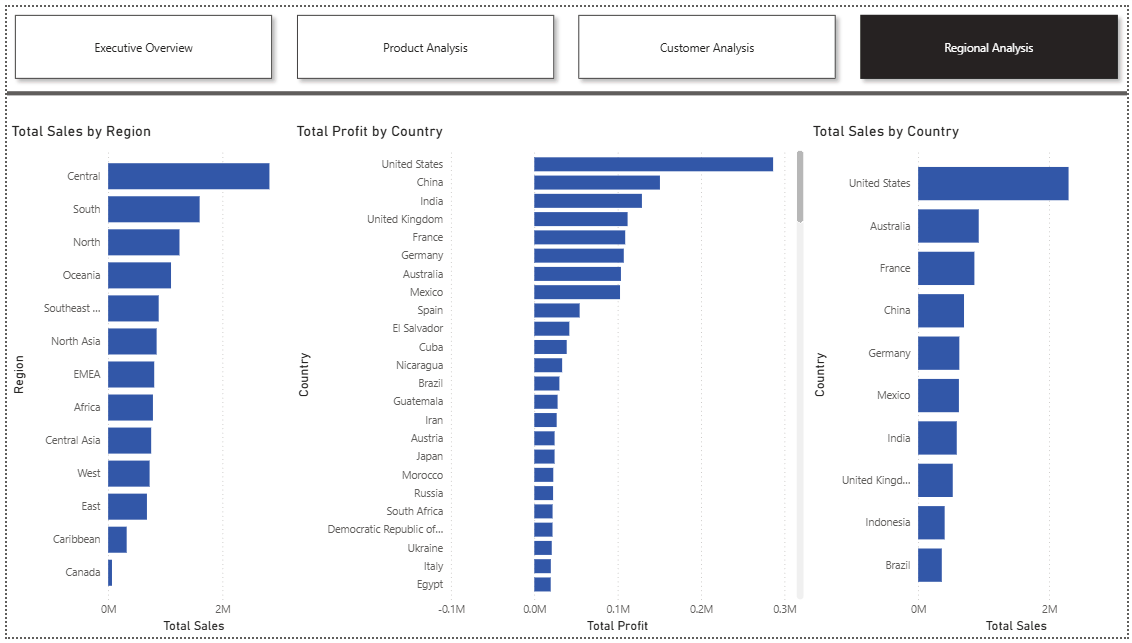

The page's visual inventory and layout, read from the dashboard file:
{"tool":"powerbi","page":{"name":"Regional Analysis","canvas":[1280,720],"ordinal":3},"visuals":[{"type":"clusteredBarChart","fields":{"Category":["superstore.Country"],"Y":["superstore.Total Sales"]},"box":[915.7,131.4,364.3,588.6],"z":0},{"type":"clusteredBarChart","fields":{"Category":["superstore.Region"],"Y":["superstore.Total Sales"]},"box":[0,131.4,325.7,588.6],"z":1000},{"type":"barChart","fields":{"Category":["superstore.Country"],"Y":["superstore.Total Profit"]},"box":[325.7,131.4,590,588.6],"z":2000},{"type":"pageNavigator","box":[0,0,1280,91.7],"z":3001},{"type":"textbox","box":[0,91.7,1280,40],"z":3002}]}

Visuals, with their boxes in screenshot pixels (x1, y1, x2, y2), scaled from the page's 1280x720 canvas onto the 1132x643 screenshot:
clusteredBarChart - superstore.Country x superstore.Total Sales: [810, 117, 1131, 642]
clusteredBarChart - superstore.Region x superstore.Total Sales: [0, 117, 288, 642]
barChart - superstore.Country x superstore.Total Profit: [288, 117, 810, 642]
pageNavigator: [0, 0, 1131, 82]
textbox: [0, 82, 1131, 118]
